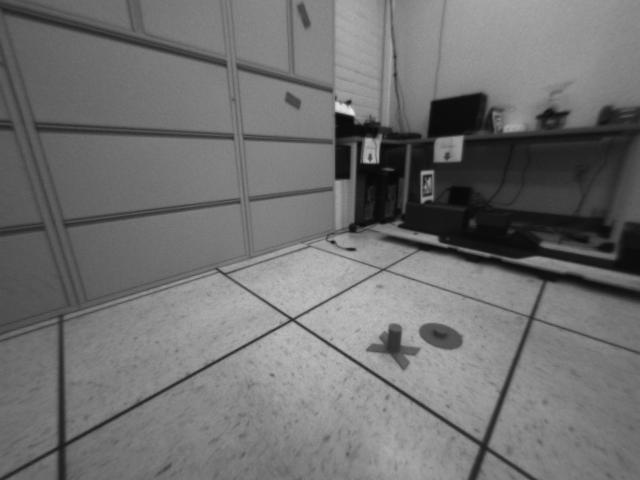X: (366, 323, 421, 371)
